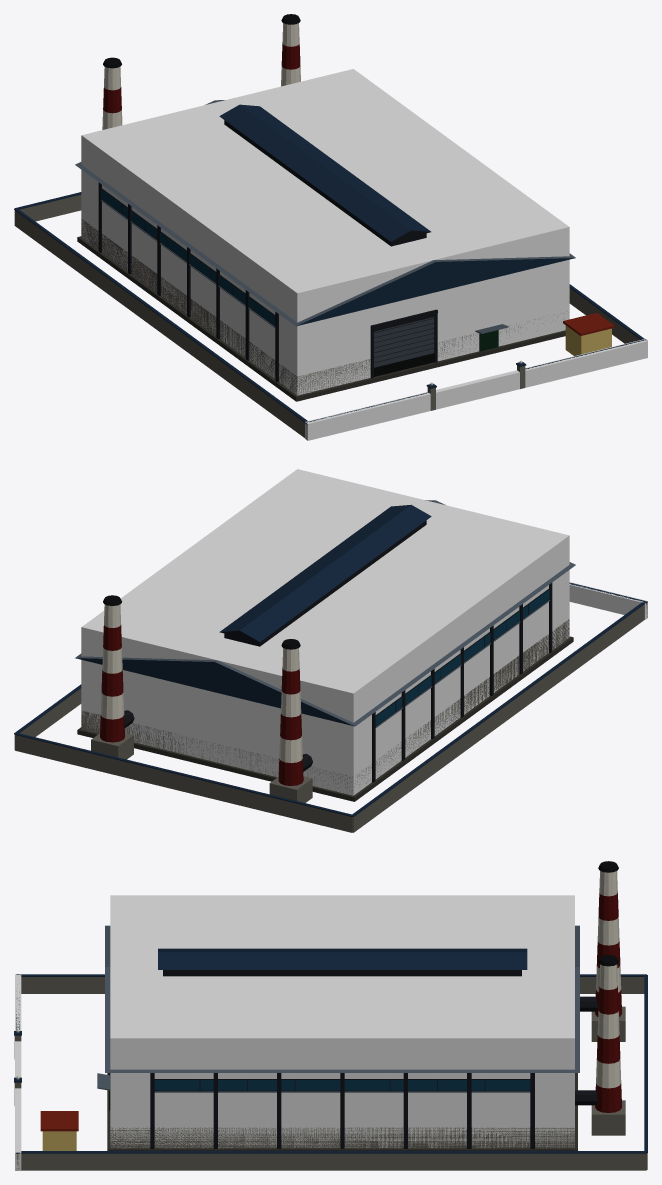
Rendered from B21_factory.glb.
The picture shows the model from 3 angles, top to bottom: view 1: azimuth 30°, elevation 25°; view 2: azimuth 150°, elevation 25°; view 3: azimuth 270°, elevation 25°; orthographic projection. The views are drawn at different scales.
Visible parts, largest first — view 1: COL_Main, LOD0, COL_Compound; view 2: COL_Main, LOD0, COL_Compound; view 3: COL_Main, LOD0, COL_Compound.
Part boxes in pixels (x1,y1,x2,y2): COL_Main: (81, 69, 569, 395); LOD0: (14, 14, 647, 438); COL_Compound: (305, 339, 647, 440); COL_Main: (81, 469, 569, 795); LOD0: (14, 500, 647, 832); COL_Compound: (569, 582, 647, 619); COL_Main: (110, 895, 574, 1148); LOD0: (14, 861, 647, 1170); COL_Compound: (15, 974, 21, 1170).
Size of what is drawn, in the model's own units: 40.08 by 17.76 by 60.06.
